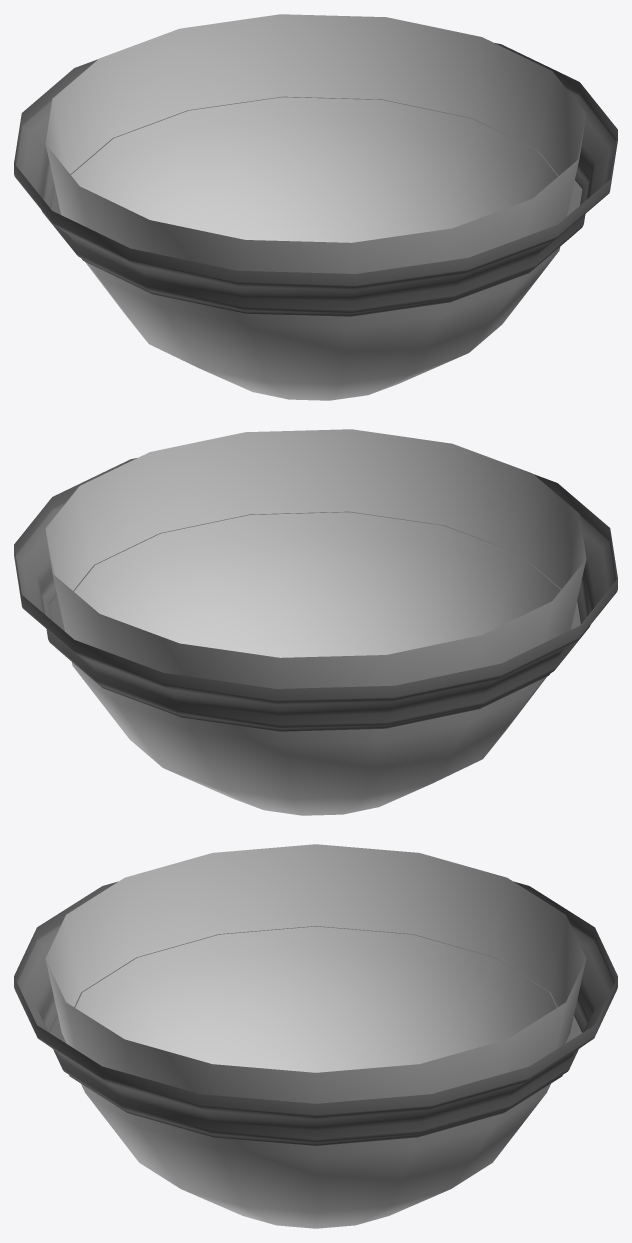
The model's file is M_Ceiling_Light.FBX.
The picture shows the model from 3 angles, top to bottom: view 1: azimuth 30°, elevation 25°; view 2: azimuth 150°, elevation 25°; view 3: azimuth 270°, elevation 25°; orthographic projection.
Visible parts, largest first — view 1: Ceiling_Light; view 2: Ceiling_Light; view 3: Ceiling_Light.
Boxes of the visible parts, x1,y1,x2,y2 form: Ceiling_Light: (14, 14, 617, 400); Ceiling_Light: (14, 429, 617, 815); Ceiling_Light: (14, 844, 617, 1228).
Size of the model in its own units: 48.16 by 22.9 by 48.16.
